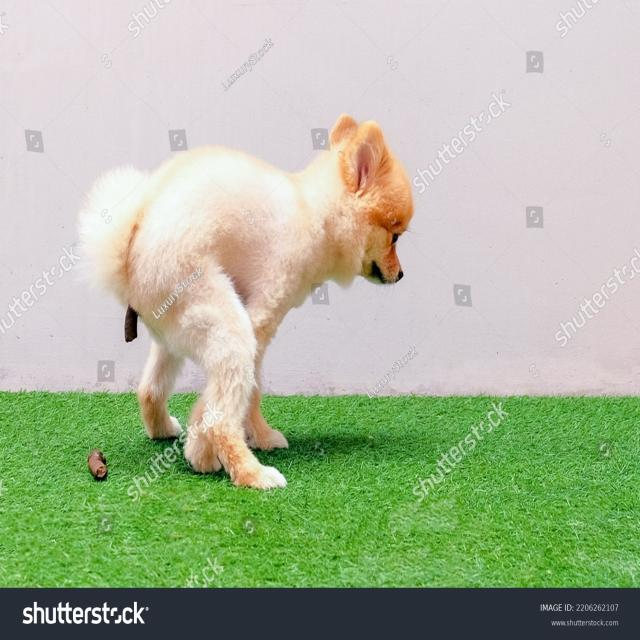Dogpoop: (83, 116, 417, 489)
